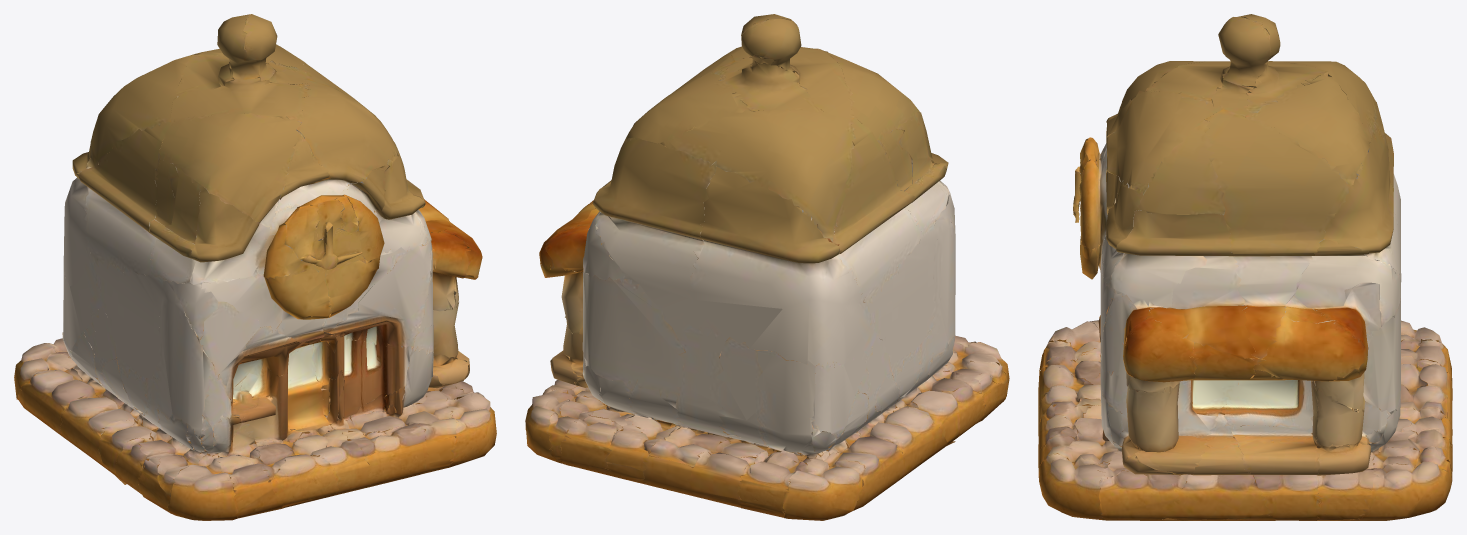
File: patisserie-coin.glb
3 views of the same model, side by side, from view 1: azimuth 30°, elevation 25°; view 2: azimuth 150°, elevation 25°; view 3: azimuth 270°, elevation 25° (orthographic). The views are drawn at different scales.
Parts seen in each view (by area): view 1: Mesh_0; view 2: Mesh_0; view 3: Mesh_0.
Boxes of the visible parts, <box> form: Mesh_0: <box>14,14,496,520</box>; Mesh_0: <box>525,14,1009,520</box>; Mesh_0: <box>1038,14,1452,520</box>.
Size of the model in its own units: 1.68 by 1.9 by 1.68.
1 material, 1 textured.
